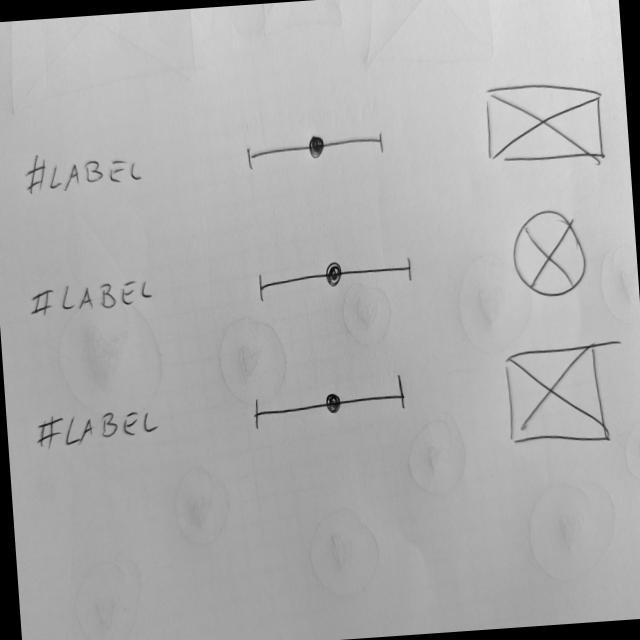image: (500, 338, 615, 454), (483, 77, 609, 171), (509, 208, 590, 300)
label: (19, 145, 152, 203), (30, 403, 164, 457), (29, 275, 162, 323)
slider: (248, 372, 413, 433), (252, 251, 419, 308), (243, 126, 392, 173)
